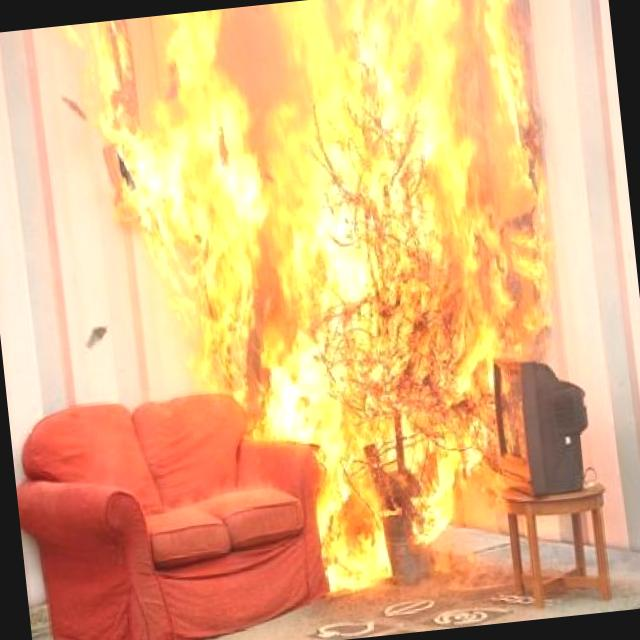fire: (103, 0, 545, 369)
